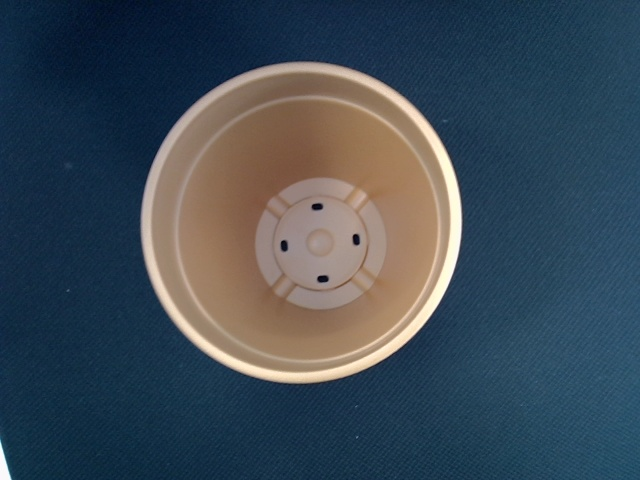화분: (137, 61, 463, 384)
